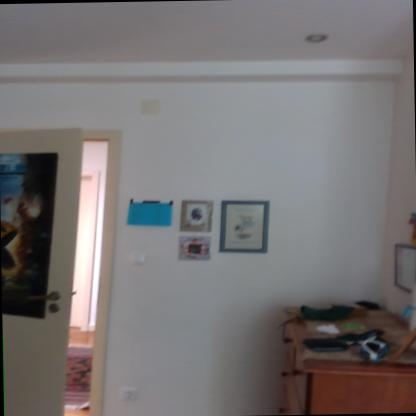semi: (0, 107, 128, 416)
